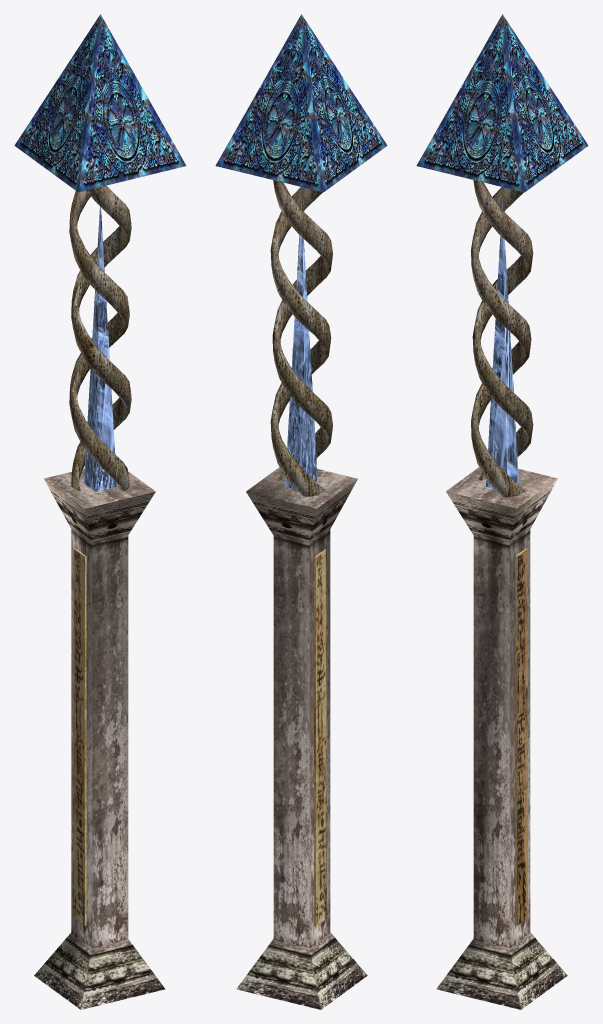
File: PILLAR_PYRAMID.obj
3 views of the same model, side by side, from view 1: azimuth 30°, elevation 25°; view 2: azimuth 150°, elevation 25°; view 3: azimuth 330°, elevation 25° (orthographic).
Parts seen in each view (by area): view 1: Group; view 2: Group; view 3: Group.
Part boxes in pixels (x1,y1,x2,y2): Group: (14, 14, 186, 1009); Group: (215, 14, 387, 1009); Group: (416, 14, 588, 1009).
Size of the model in its own units: 10.26 by 87.62 by 10.48.
